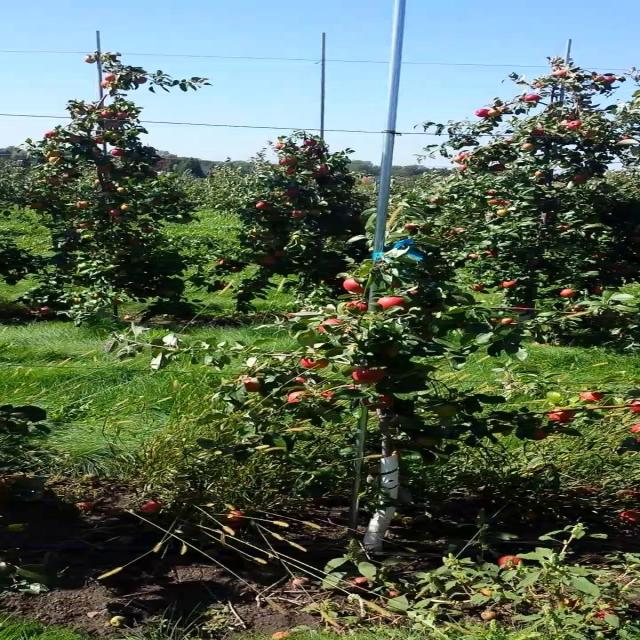apple: (355, 368, 388, 384), (362, 396, 396, 411), (547, 412, 576, 424), (383, 296, 409, 309), (321, 320, 343, 333), (348, 280, 366, 295), (433, 408, 460, 417), (582, 392, 604, 403), (611, 264, 633, 275), (419, 436, 439, 448), (305, 360, 329, 369), (291, 392, 308, 403), (561, 288, 578, 299), (248, 380, 263, 392), (348, 304, 370, 312), (568, 120, 583, 131), (383, 348, 400, 357), (532, 432, 548, 440), (589, 288, 604, 296), (575, 176, 590, 183), (532, 132, 548, 136), (298, 376, 306, 384), (326, 392, 334, 397)
